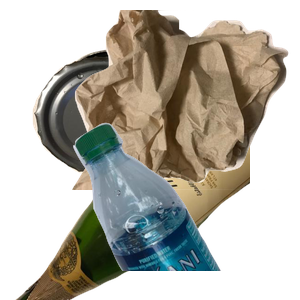glass: (13, 120, 253, 300)
metal: (30, 46, 205, 215)
plastic: (71, 120, 300, 300)
trash: (70, 10, 300, 190)
